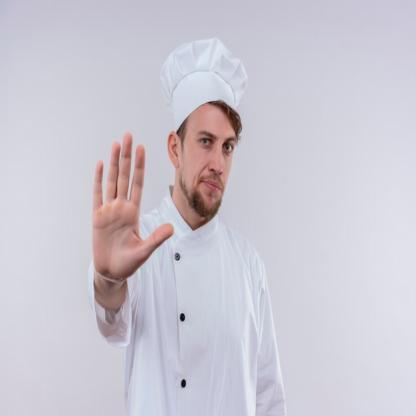stop: (87, 131, 176, 287)
